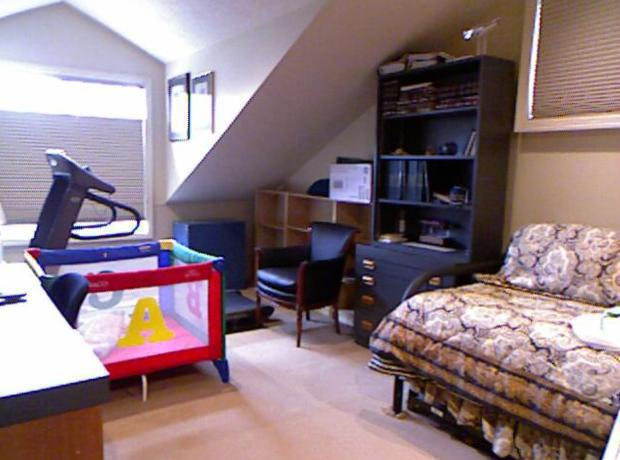Armario: (362, 68, 493, 348)
